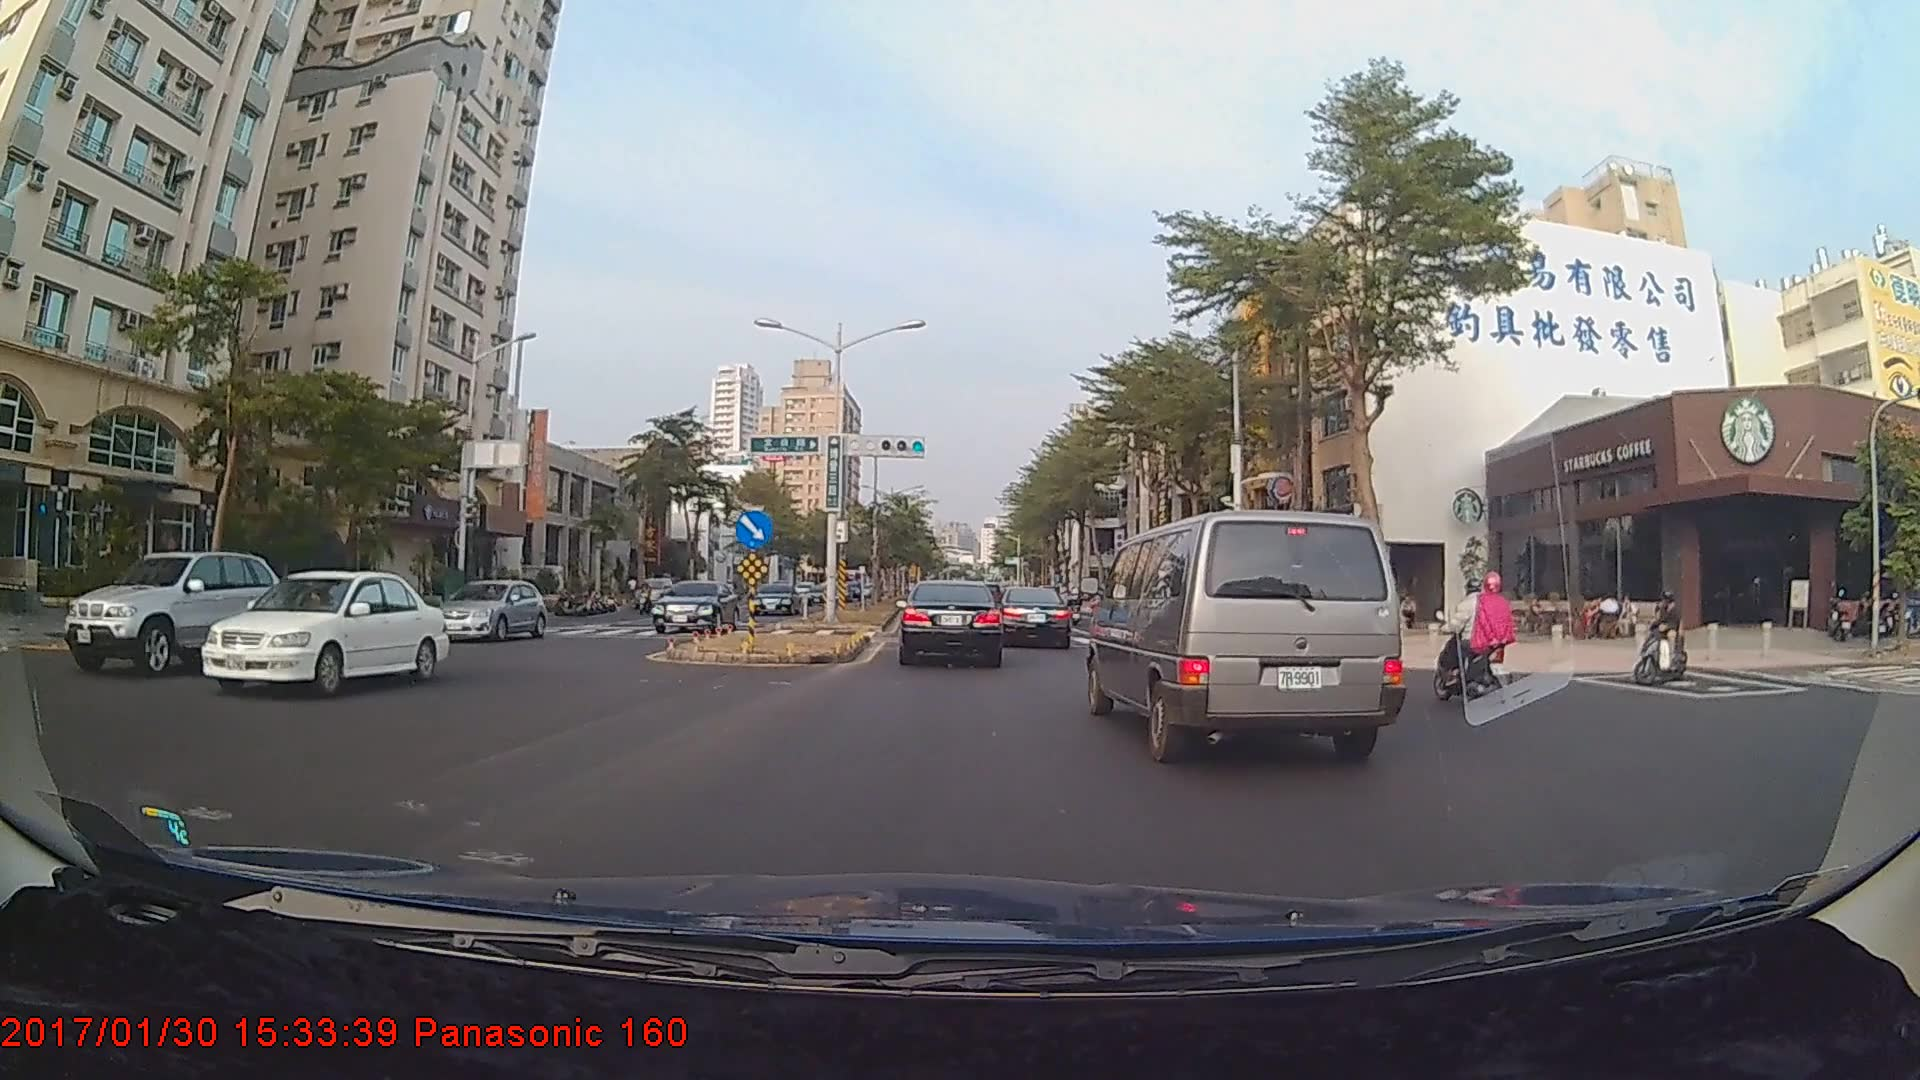rider: (1436, 565, 1527, 707), (1624, 588, 1697, 687)
vehicle: (1093, 502, 1400, 765), (200, 571, 449, 697), (62, 548, 277, 671), (897, 580, 1005, 667), (429, 580, 547, 644), (649, 578, 738, 636), (999, 585, 1071, 649), (749, 581, 804, 618)
